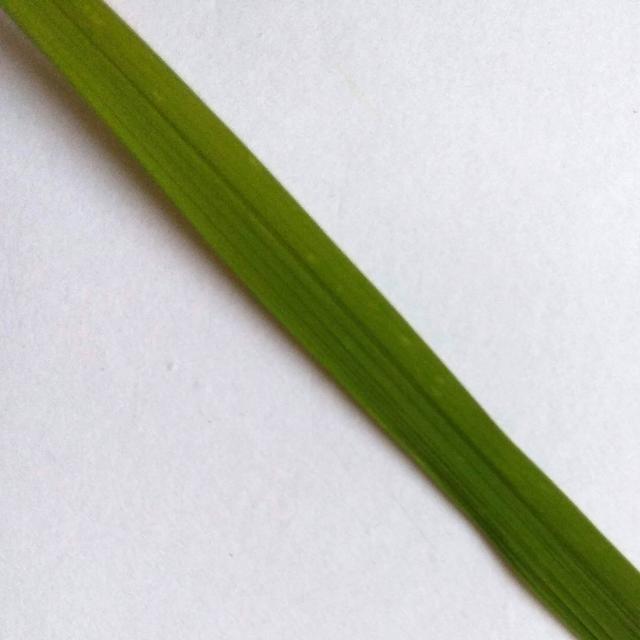Rice_Healthy: (1, 0, 640, 640)
